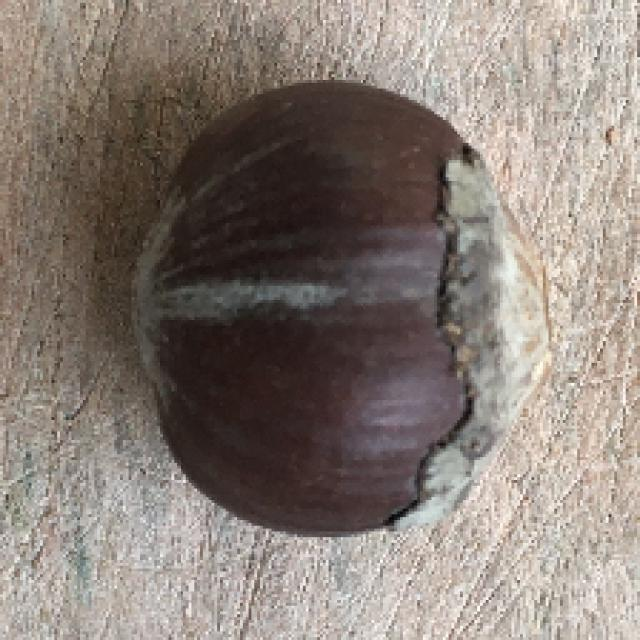damagedHazelnut: (123, 73, 560, 553)
